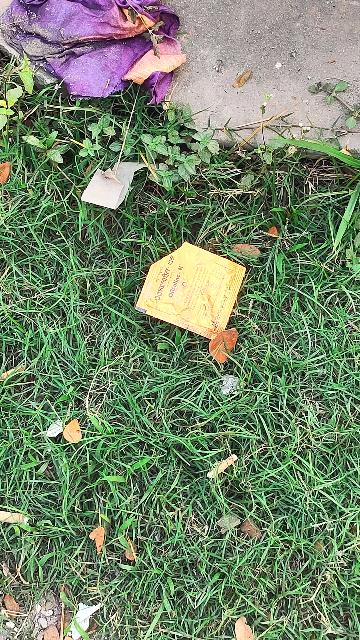packet: (134, 235, 254, 346)
